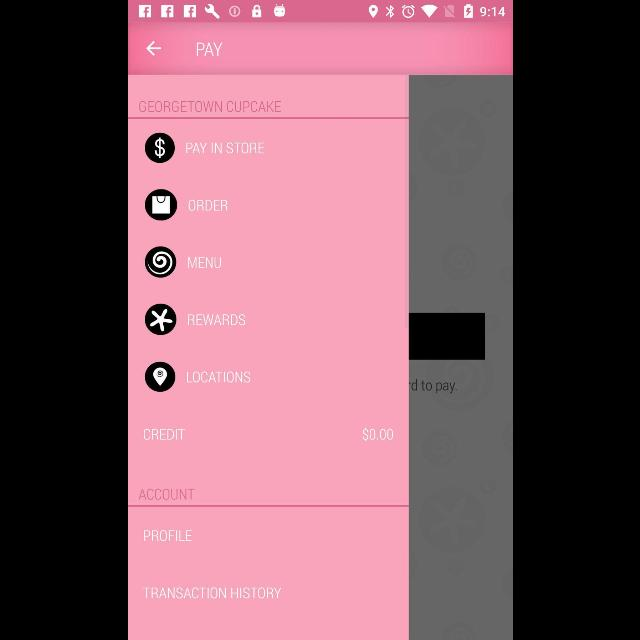icon: (144, 189, 178, 221), (144, 132, 174, 164), (144, 362, 174, 392), (145, 41, 161, 57)
image: (144, 246, 176, 278), (144, 303, 176, 335)
panel: (128, 75, 408, 639)
text: (142, 586, 282, 600), (138, 101, 282, 113), (186, 142, 264, 154), (186, 371, 250, 383), (187, 314, 245, 326), (138, 488, 195, 500), (142, 530, 192, 542), (143, 429, 185, 441), (187, 200, 227, 212), (362, 427, 392, 441), (196, 42, 222, 58), (187, 257, 221, 269)
uppertaskbar: (128, 1, 512, 23)
